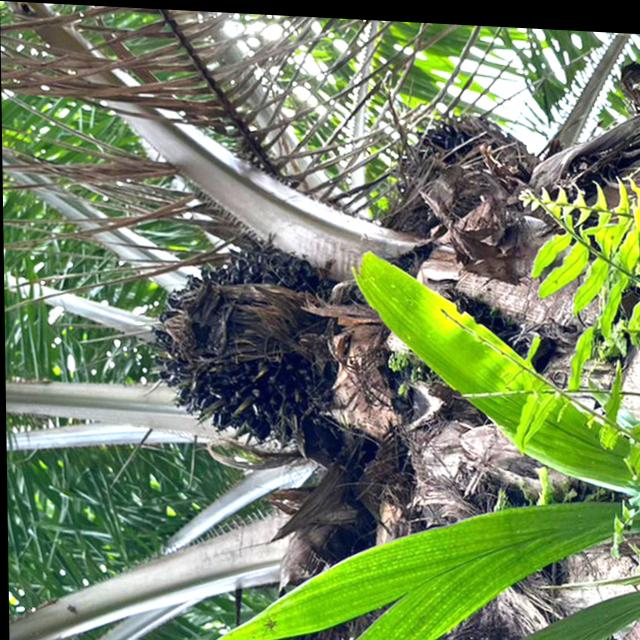unripe: (135, 225, 384, 469), (382, 108, 534, 263)
